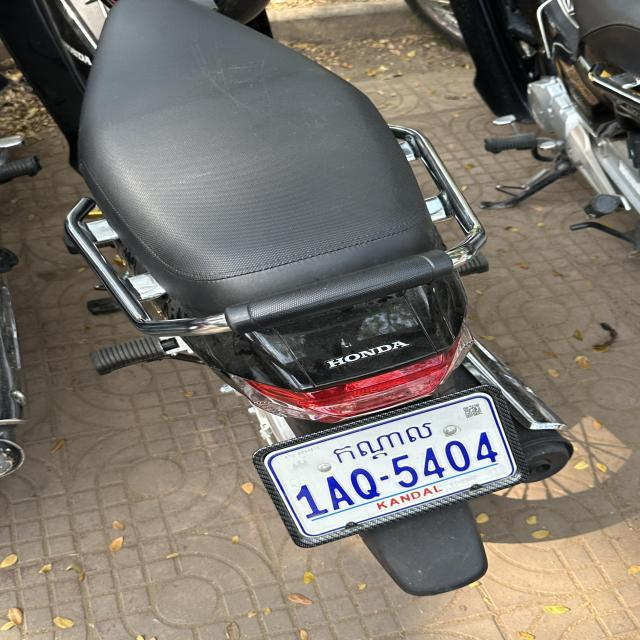Kandal: (333, 419, 434, 462)
